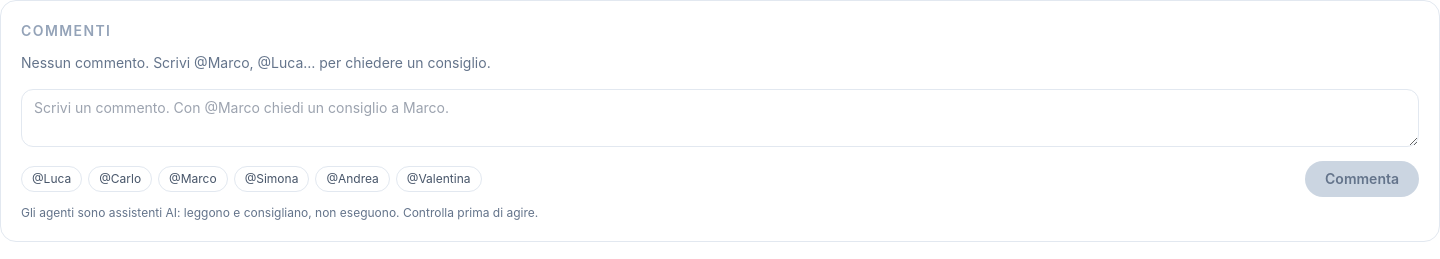
Scenario: il chip @Marco inserisce la menzione e il commento parte con tipo e bersaglio
The image size is (1440, 259).
Expected: the text "Nessun commento" is shown, [21,54,491,71]
Click the button "@Marco". click: (193, 179)
box: [158,166,228,192]
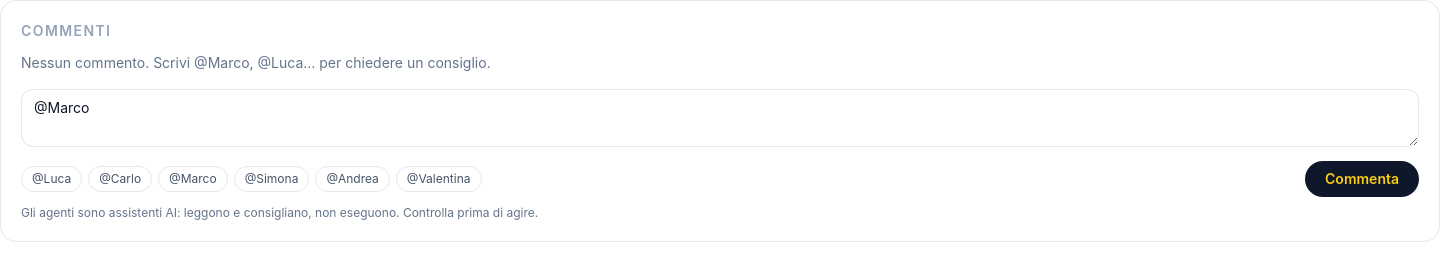
Expected: the text box named "Scrivi un commento" holds "@Marco "
Replace the text in the text box named "Scrivi un commento" with "@Marco com'è messo?". click: (720, 118)
box: [21,89,1419,147]
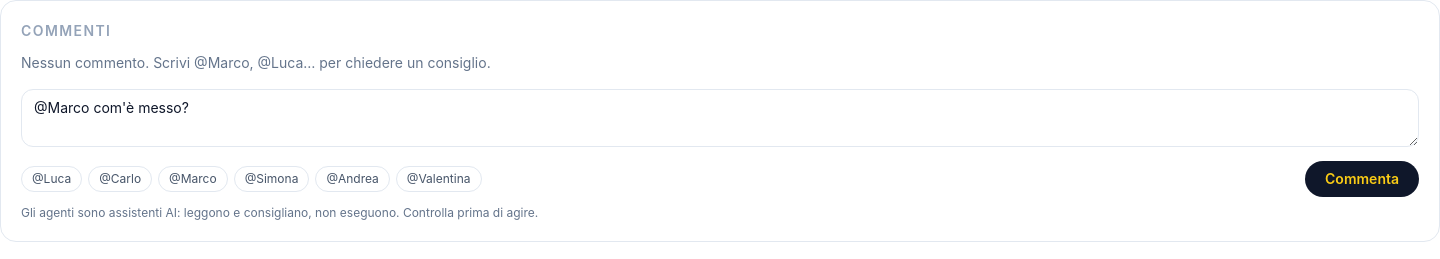
Click the button "Commenta". click: (1362, 179)
box: [1305,161,1419,197]
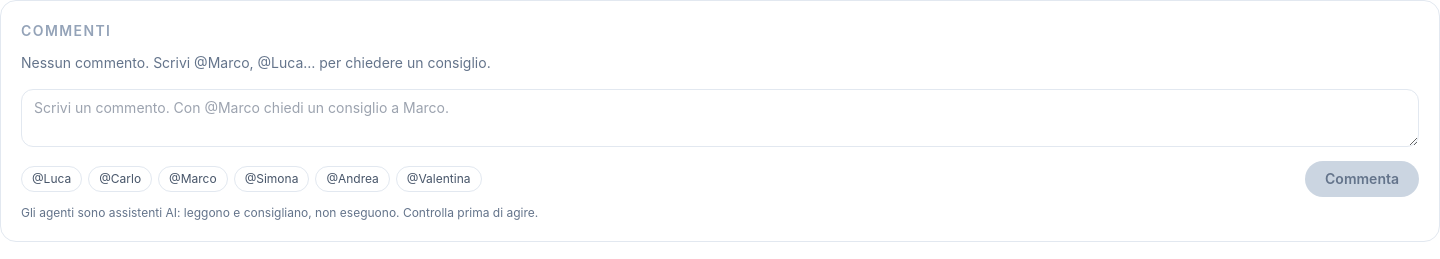
Expected: the text box labelled "Scrivi un commento" is empty, [21,89,1419,147]
